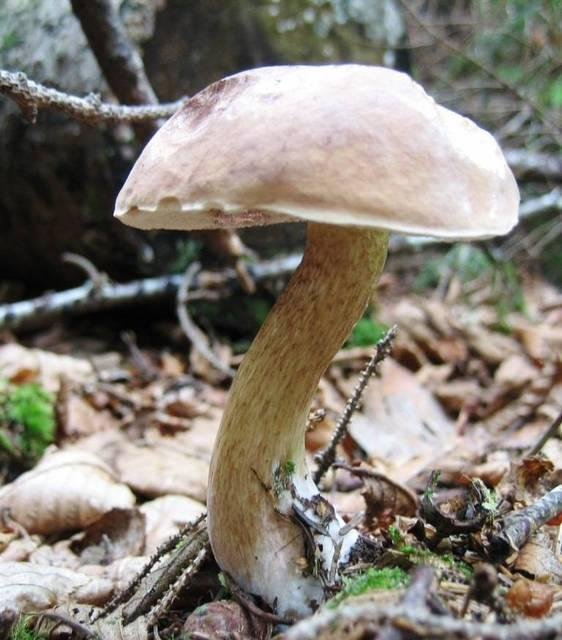Non-edible Mushroom: (111, 61, 521, 624)
